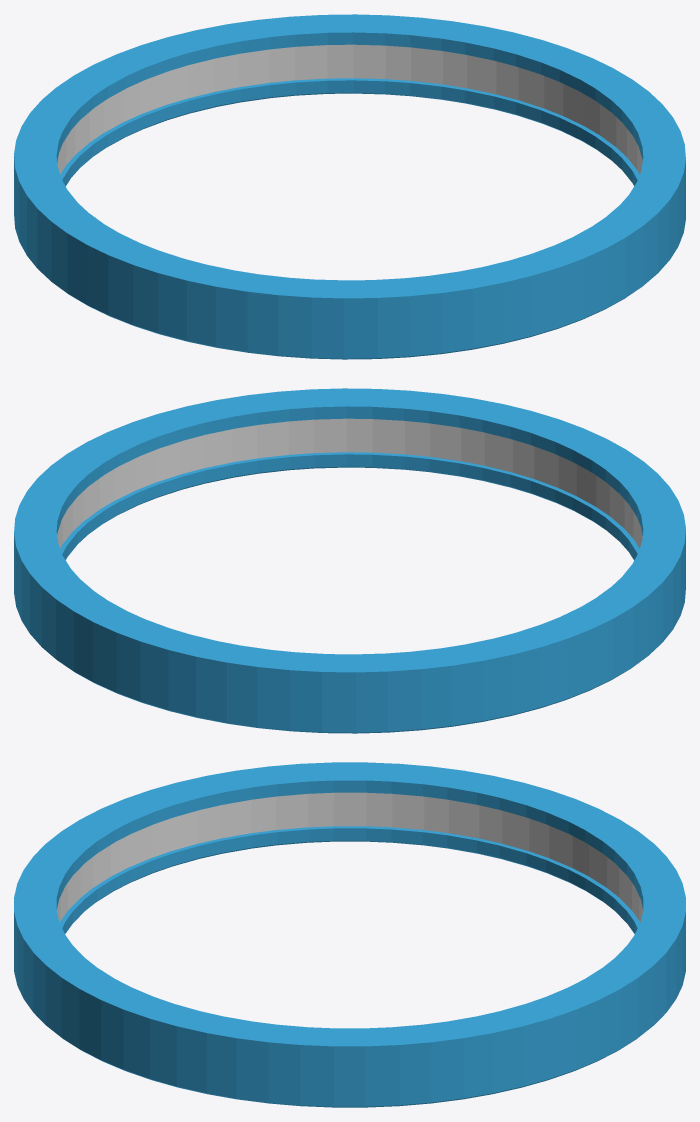
The model's file is P_Ring.fbx.
The picture shows the model from 3 angles, top to bottom: view 1: azimuth 30°, elevation 25°; view 2: azimuth 150°, elevation 25°; view 3: azimuth 270°, elevation 25°; orthographic projection.
Visible parts, largest first — view 1: Ring; view 2: Ring; view 3: Ring.
Boxes of the visible parts, x1,y1,x2,y2 form: Ring: (14, 14, 685, 359); Ring: (14, 388, 685, 733); Ring: (14, 762, 685, 1107).
Size of the model in its own units: 554 by 56.34 by 554.
